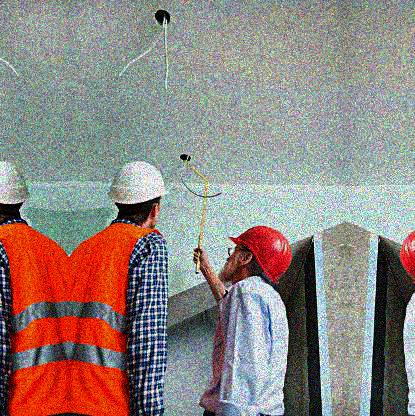helmet: (216, 223, 293, 285), (106, 160, 171, 224), (1, 158, 33, 226)
